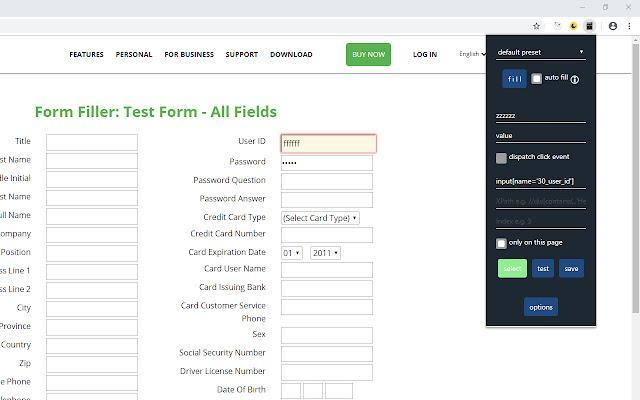button: (346, 44, 393, 67), (525, 298, 559, 317), (499, 260, 528, 278), (560, 261, 585, 278), (533, 260, 556, 278)
checkbox: (497, 239, 509, 251), (532, 74, 543, 86), (497, 154, 508, 165)
dropdown: (282, 212, 360, 226), (312, 248, 342, 260), (282, 247, 304, 260)
input: (282, 135, 378, 154), (497, 192, 588, 210), (497, 106, 587, 124), (496, 212, 586, 230), (282, 365, 374, 382), (47, 320, 139, 337), (47, 246, 139, 263), (48, 172, 138, 189), (496, 127, 586, 144), (496, 173, 586, 190), (282, 174, 374, 190), (282, 347, 374, 363), (47, 209, 139, 225), (47, 283, 139, 299), (282, 263, 373, 279), (282, 282, 373, 298), (282, 329, 373, 345), (47, 339, 138, 355), (48, 135, 138, 151), (282, 156, 374, 171), (282, 193, 374, 208), (282, 300, 374, 315), (47, 228, 139, 243), (47, 266, 139, 281), (47, 154, 138, 169), (47, 302, 138, 317), (48, 377, 139, 392), (283, 228, 373, 243), (47, 192, 139, 206), (47, 358, 139, 372), (326, 384, 354, 400), (282, 384, 302, 399), (304, 384, 324, 399)
label: (192, 228, 272, 241), (182, 301, 269, 312), (180, 367, 268, 377), (188, 248, 267, 259), (191, 175, 269, 186), (179, 348, 268, 357), (199, 195, 268, 206), (203, 212, 271, 223), (203, 265, 268, 275), (198, 283, 268, 292), (164, 49, 216, 61), (510, 153, 572, 163), (216, 385, 269, 395), (509, 239, 565, 248), (68, 49, 108, 61), (1, 375, 35, 389), (1, 264, 34, 278), (237, 136, 270, 149), (115, 50, 154, 61), (229, 156, 267, 167), (1, 320, 33, 333), (1, 229, 35, 241), (270, 51, 315, 60), (1, 211, 34, 222), (1, 173, 34, 184), (1, 284, 34, 294), (1, 342, 33, 352), (226, 51, 261, 60), (1, 194, 35, 203), (1, 249, 34, 258), (241, 314, 268, 324), (413, 50, 440, 60), (1, 157, 33, 165), (16, 304, 36, 315), (15, 137, 32, 147), (17, 359, 34, 369), (252, 330, 269, 339)
